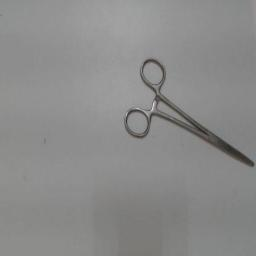Mayo Needle Holder: (119, 52, 255, 174)
